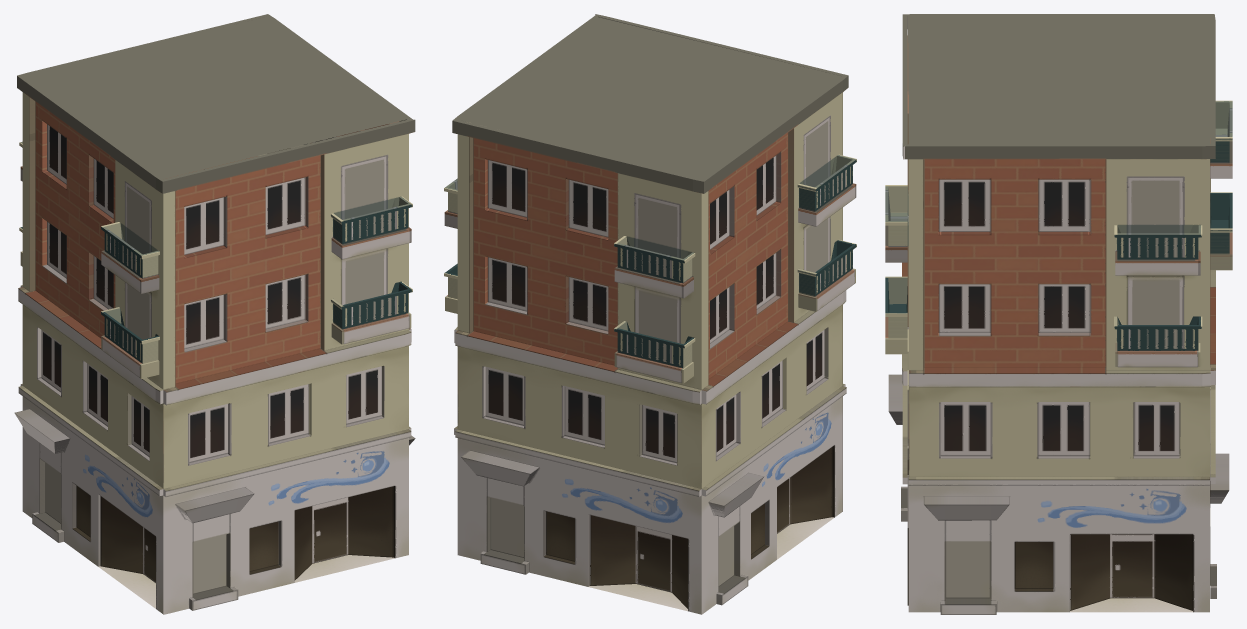
Rendered from predio4.fbx.
3 views of the same model, side by side, from view 1: azimuth 30°, elevation 25°; view 2: azimuth 150°, elevation 25°; view 3: azimuth 270°, elevation 25° (orthographic). The views are drawn at different scales.
Visible parts, largest first — view 1: predio4_Texture; view 2: predio4_Texture; view 3: predio4_Texture.
Boxes of the visible parts, x1,y1,x2,y2 form: predio4_Texture: [14, 14, 415, 614]; predio4_Texture: [444, 14, 856, 614]; predio4_Texture: [885, 14, 1232, 614].
Size of the model in its own units: 115 by 171 by 115.
